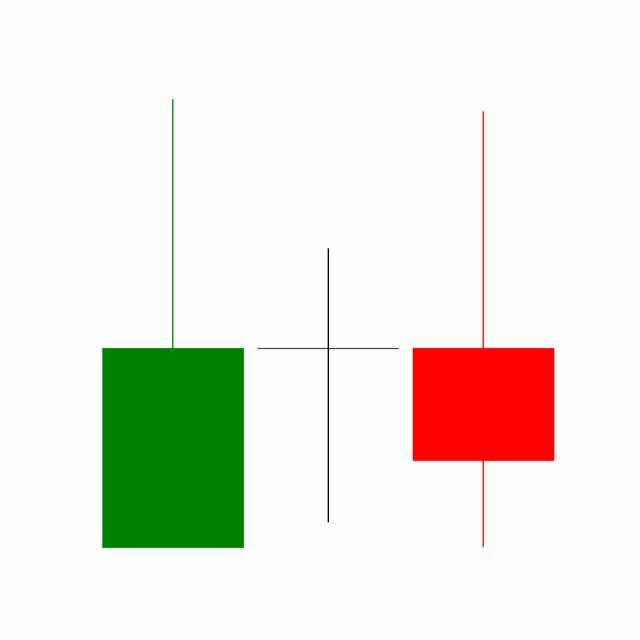Spinning Top: (250, 246, 407, 527)
